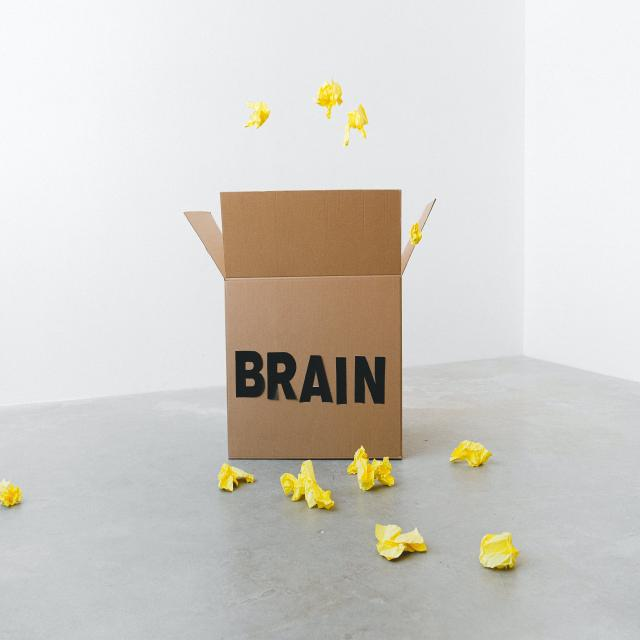cardboard: (221, 192, 405, 460)
